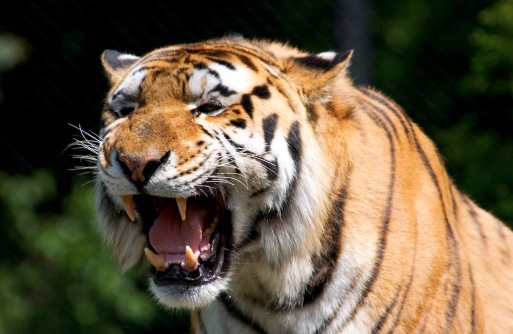Tiger: (52, 16, 513, 328)
